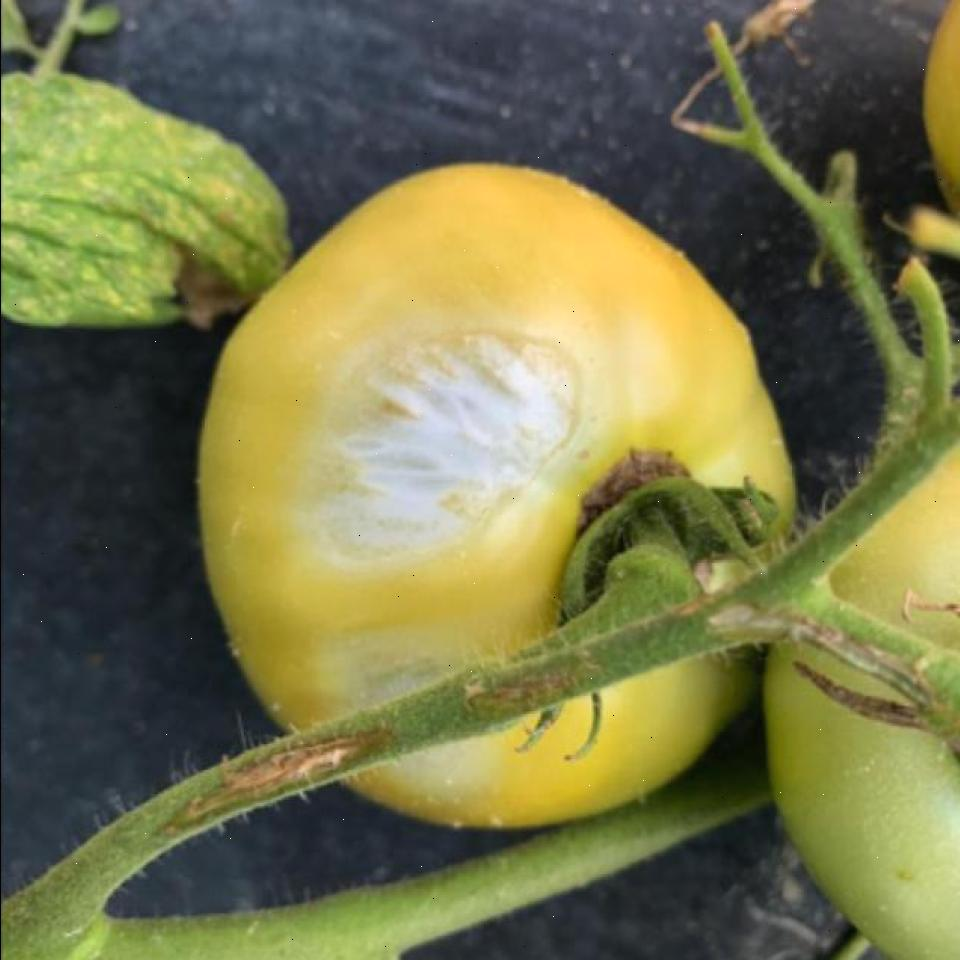Sunscald: (302, 316, 584, 608), (314, 649, 506, 783)
